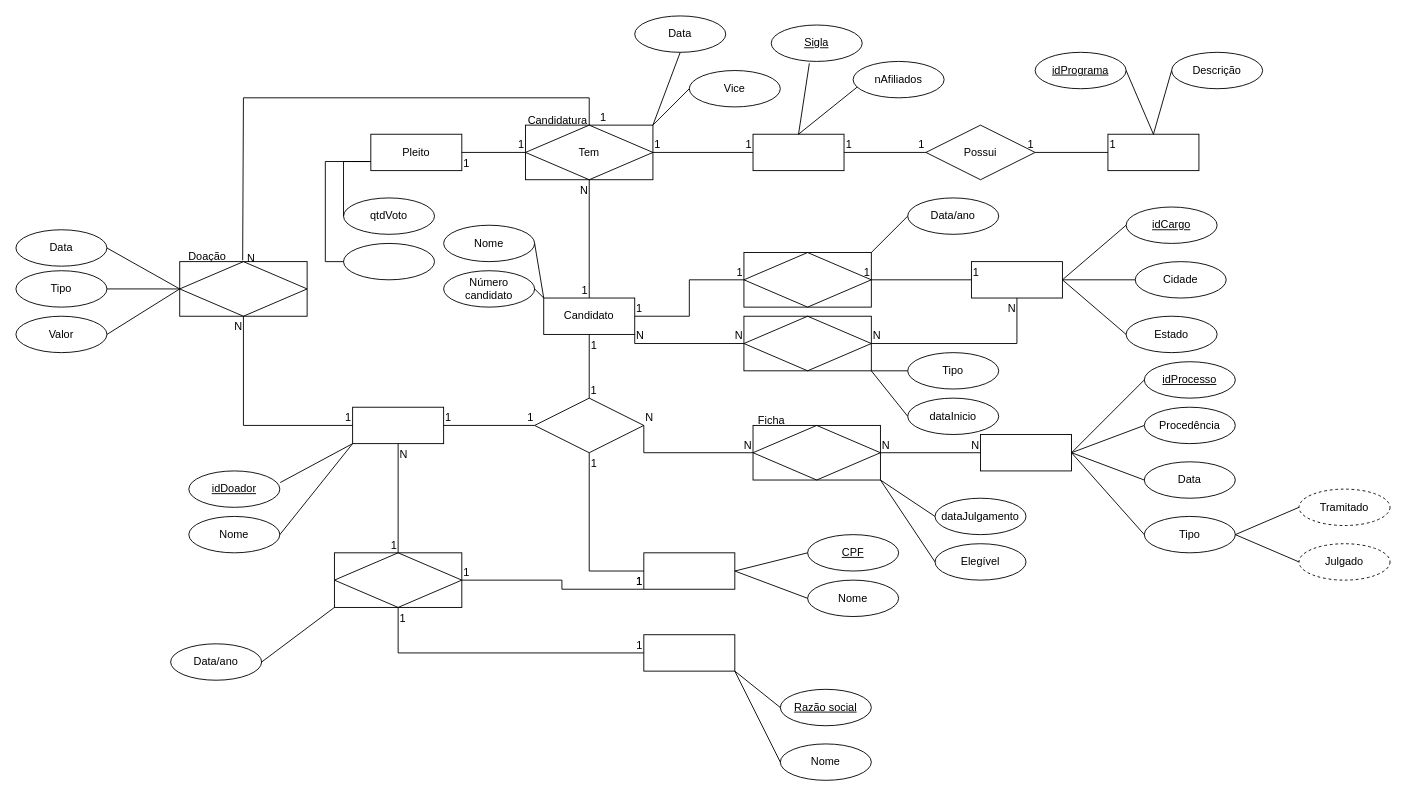
Image size: 1406x796. Some labels were removed from this diagram. Here are the shapes that lost their labels. From the top down, the centre of each, then its label:
At pixel 798 152: "Partidos".
At pixel 1153 152: "Programa de partido".
At pixel 389 261: "idPleito".
At pixel 807 279: "Elege".
At pixel 1016 279: "Cargos".
At pixel 243 288: "Doa".
At pixel 807 343: "Exerce".
At pixel 398 425: "Doadores de campanha".
At pixel 589 425: "Pode ser".
At pixel 816 452: "Pode ter".
At pixel 1026 452: "Processos judiciais".
At pixel 398 579: "Participa equipe".
At pixel 689 570: "Participantes de equipes de apoio".
At pixel 689 652: "Equipes de apoio".
